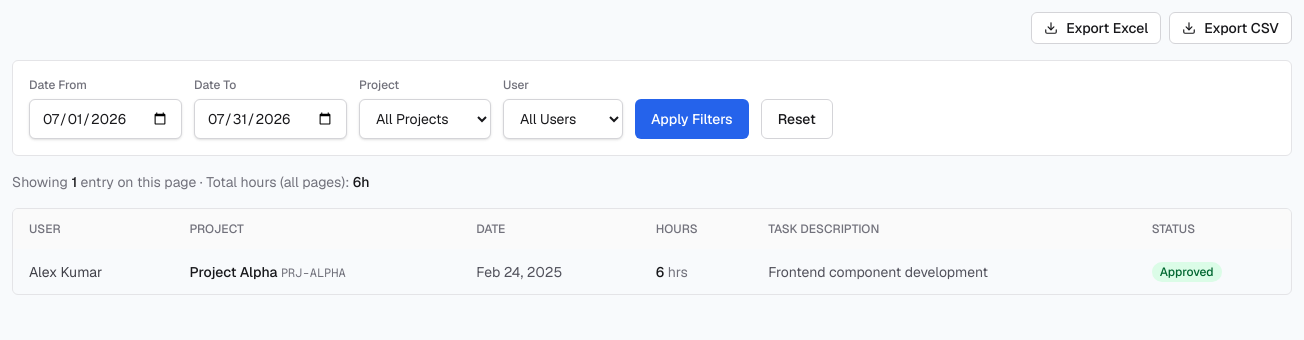
Test: TimesheetReportTable › shows a validation error when Date From is after Date To
Check: the cell "Alex Kumar" is shown, box [13,249,173,294]
Type "2025-03-01" into the date field labelled "Date From" at (106, 119), box [29,99,182,139]
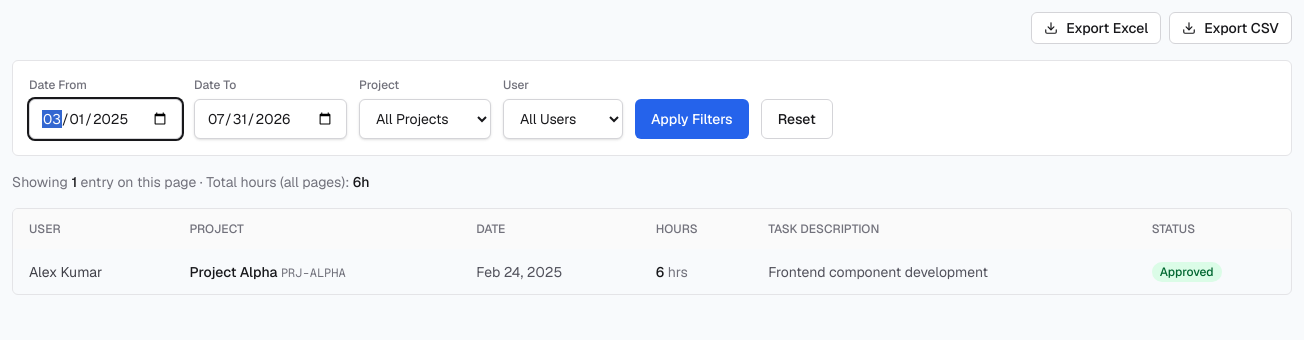
Type "2025-01-01" into the date field labelled "Date To" at (270, 119), box [194,99,347,139]
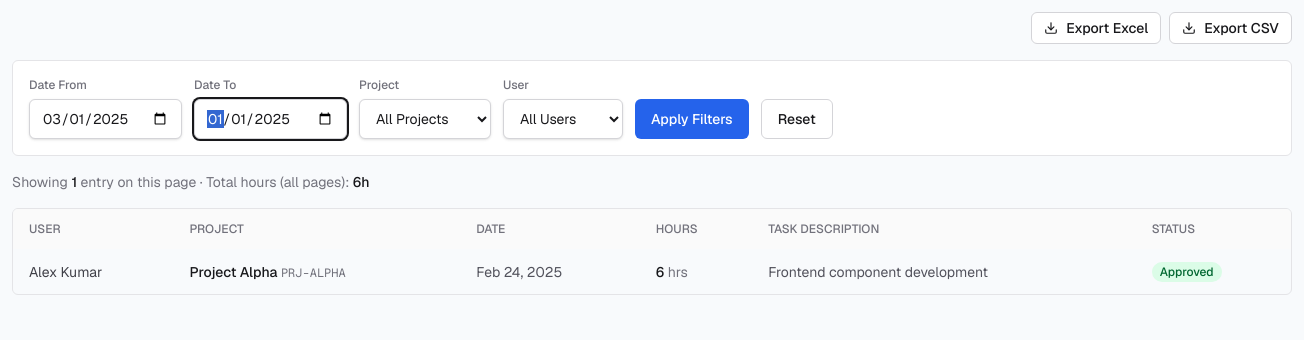
Click the button "Apply Filters" at (692, 119), box [635,99,749,139]
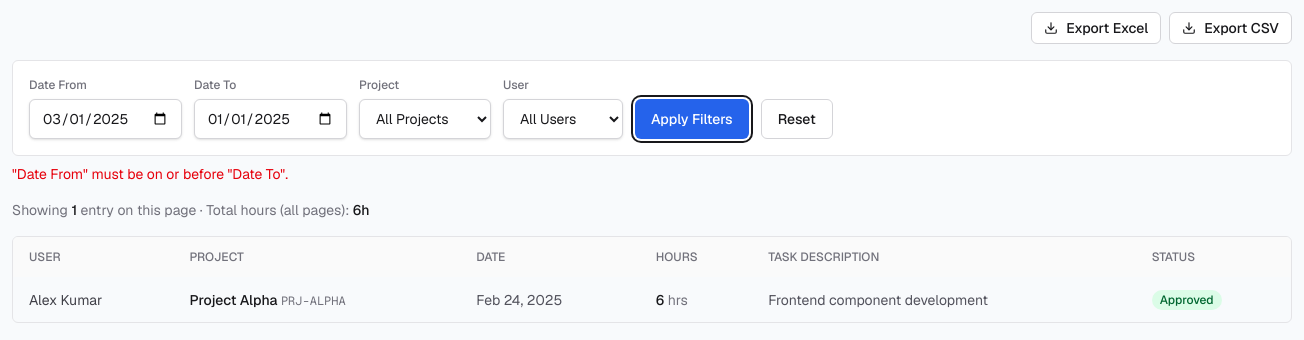
Check: the message reads "\"Date From\" must be on or before \"Date To\".", box [12,165,288,183]
